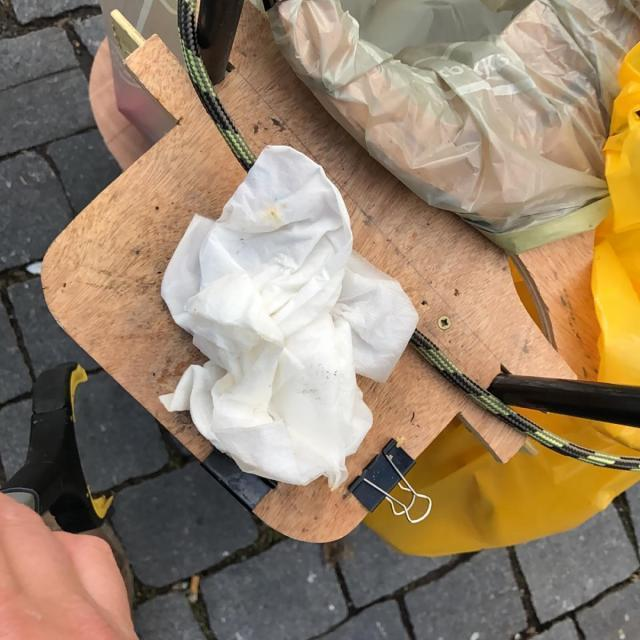Paper: (157, 140, 420, 497)
